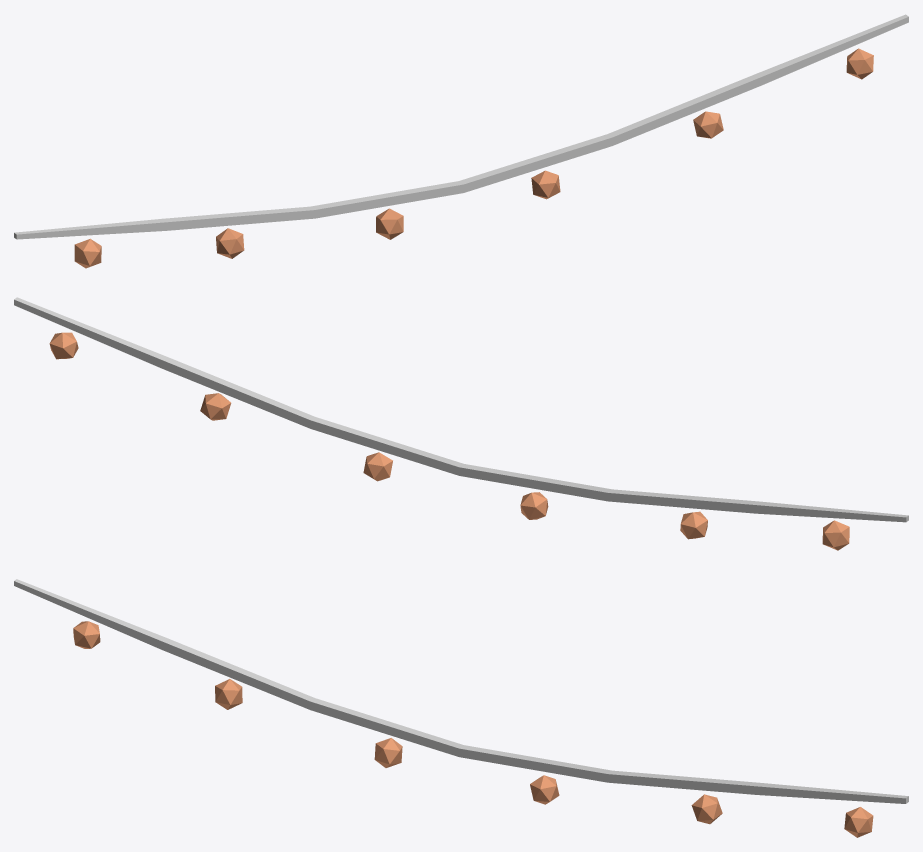
Rendered from fairylights.fbx.
3 views of the same model, one above another, from view 1: azimuth 30°, elevation 25°; view 2: azimuth 150°, elevation 25°; view 3: azimuth 330°, elevation 25° (orthographic).
Parts seen in each view (by area): view 1: Cube, Icosphere.002, Icosphere.001, Icosphere.005, Icosphere, Icosphere.003, Icosphere.004; view 2: Cube, Icosphere, Icosphere.004, Icosphere.003, Icosphere.002, Icosphere.005, Icosphere.001; view 3: Cube, Icosphere.005, Icosphere.001, Icosphere.002, Icosphere.004, Icosphere.003, Icosphere.
Part boxes in pixels (x1=…): Cube: x1=14, y1=14, x2=908, y2=239; Icosphere.002: x1=376, y1=208, x2=403, y2=239; Icosphere.001: x1=216, y1=228, x2=244, y2=258; Icosphere.005: x1=846, y1=48, x2=873, y2=79; Icosphere: x1=74, y1=238, x2=101, y2=268; Icosphere.003: x1=531, y1=170, x2=560, y2=199; Icosphere.004: x1=693, y1=111, x2=723, y2=138; Cube: x1=14, y1=297, x2=908, y2=522; Icosphere: x1=822, y1=520, x2=849, y2=550; Icosphere.004: x1=200, y1=393, x2=231, y2=420; Icosphere.003: x1=363, y1=452, x2=392, y2=481; Icosphere.002: x1=520, y1=492, x2=548, y2=519; Icosphere.005: x1=49, y1=332, x2=78, y2=359; Icosphere.001: x1=680, y1=511, x2=707, y2=539; Cube: x1=14, y1=579, x2=908, y2=803; Icosphere.005: x1=844, y1=807, x2=873, y2=837; Icosphere.001: x1=215, y1=679, x2=242, y2=709; Icosphere.002: x1=374, y1=738, x2=402, y2=767; Icosphere.004: x1=691, y1=794, x2=722, y2=824; Icosphere.003: x1=530, y1=775, x2=559, y2=804; Icosphere: x1=73, y1=621, x2=100, y2=648.
Size of the model in its own units: 1171 by 121 by 32.24.
